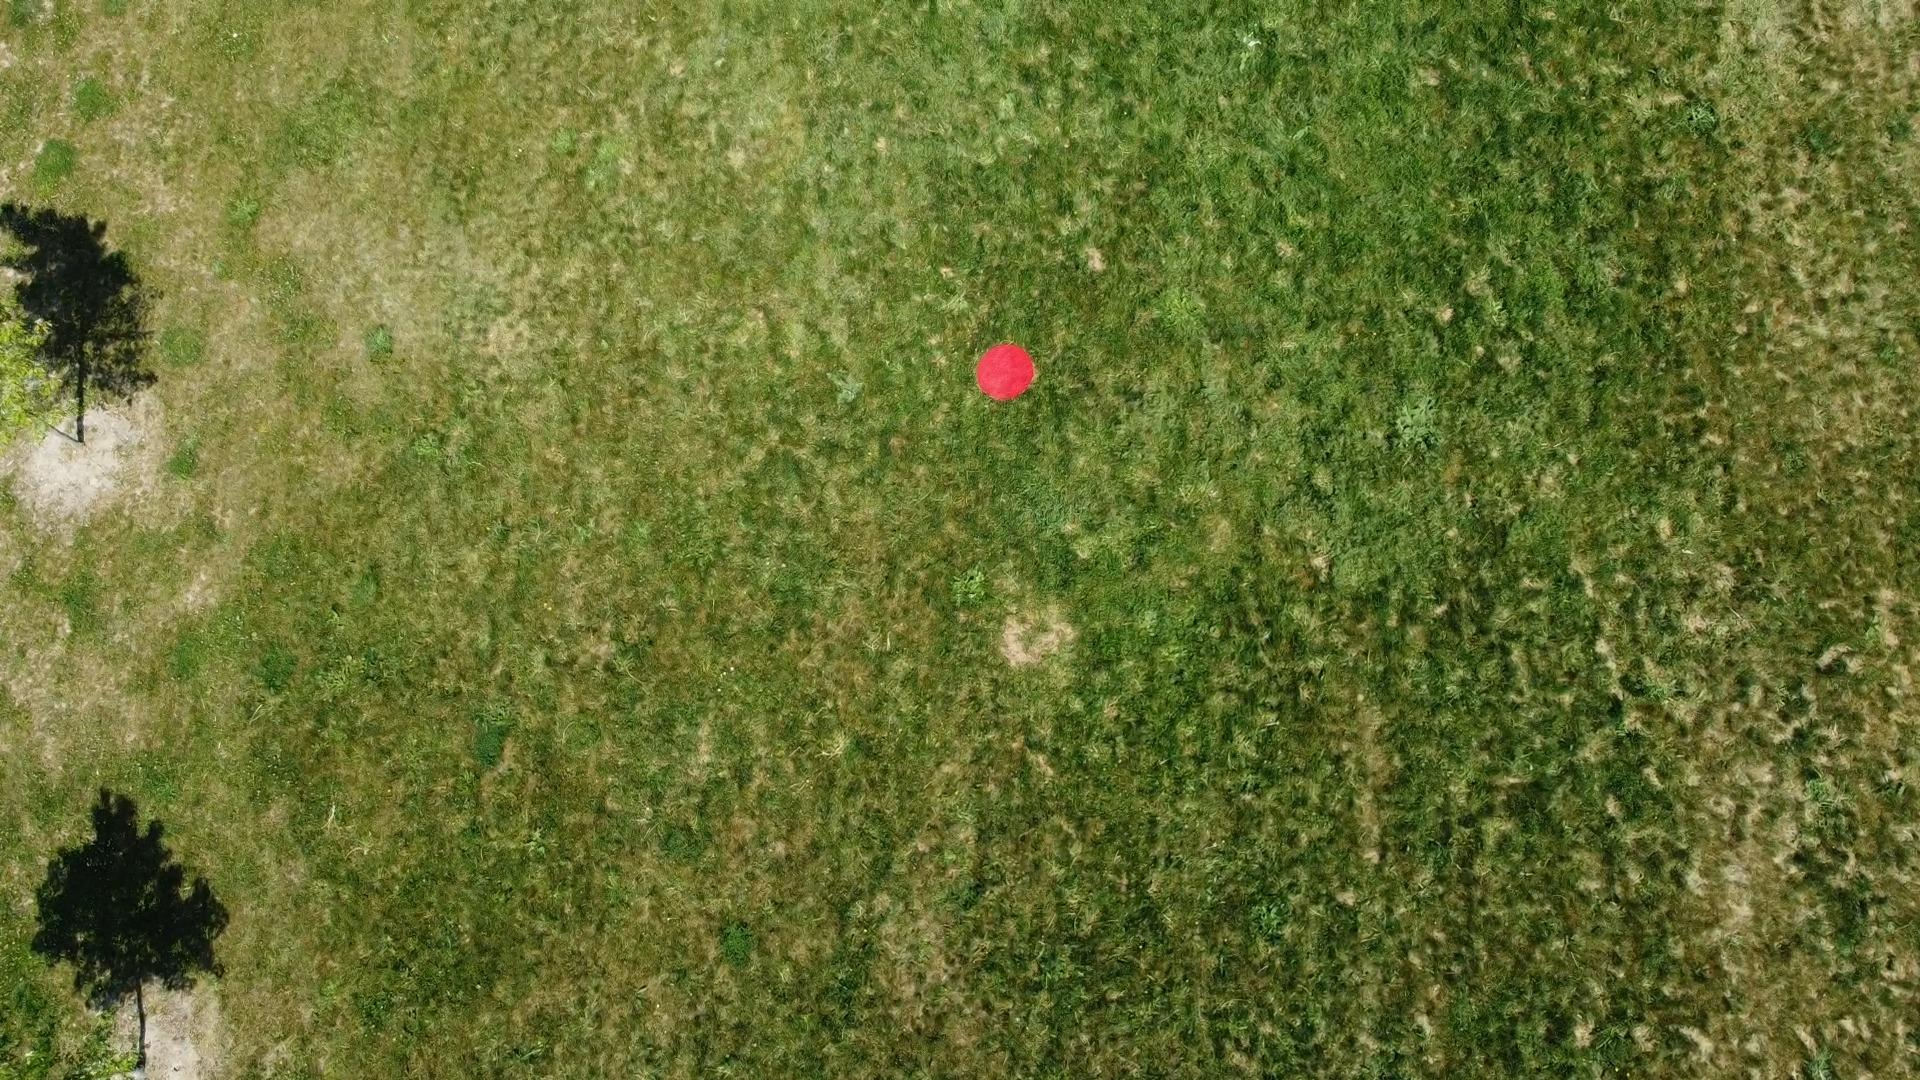Red: (971, 338, 1040, 404)
